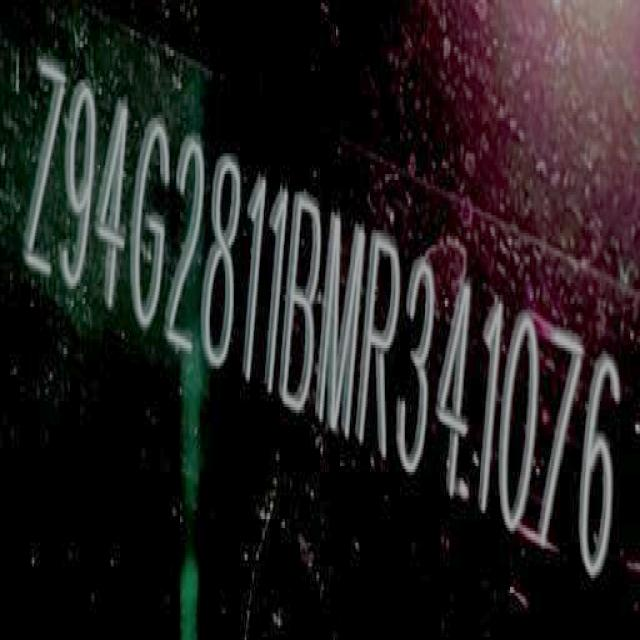0: (499, 304, 544, 545)
1: (474, 288, 504, 527), (242, 161, 266, 384), (266, 176, 290, 394)
2: (166, 134, 208, 364)
3: (397, 244, 439, 491)
4: (432, 272, 477, 516), (93, 90, 139, 322)
6: (580, 344, 628, 585)
7: (535, 313, 587, 566)
8: (202, 146, 244, 377)
9: (56, 77, 103, 305)
B: (280, 187, 328, 422)
G: (126, 110, 173, 342)
M: (315, 206, 367, 448)
R: (360, 223, 405, 470)
Z: (16, 45, 71, 293)
